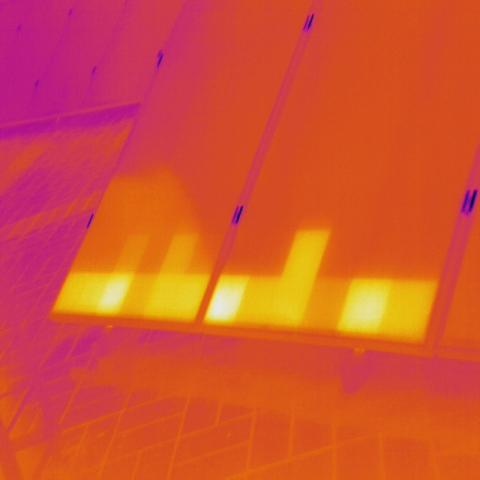fault: (340, 278, 392, 336), (208, 272, 252, 326), (156, 273, 200, 322), (270, 278, 308, 328), (288, 229, 328, 273), (100, 271, 130, 320)
